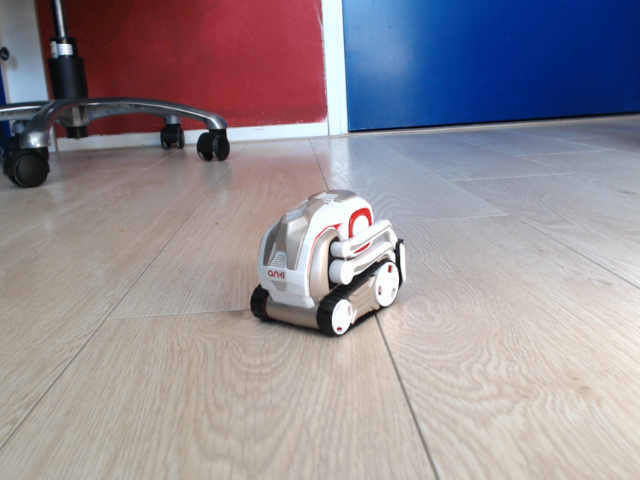cozmo: (249, 184, 409, 338)
